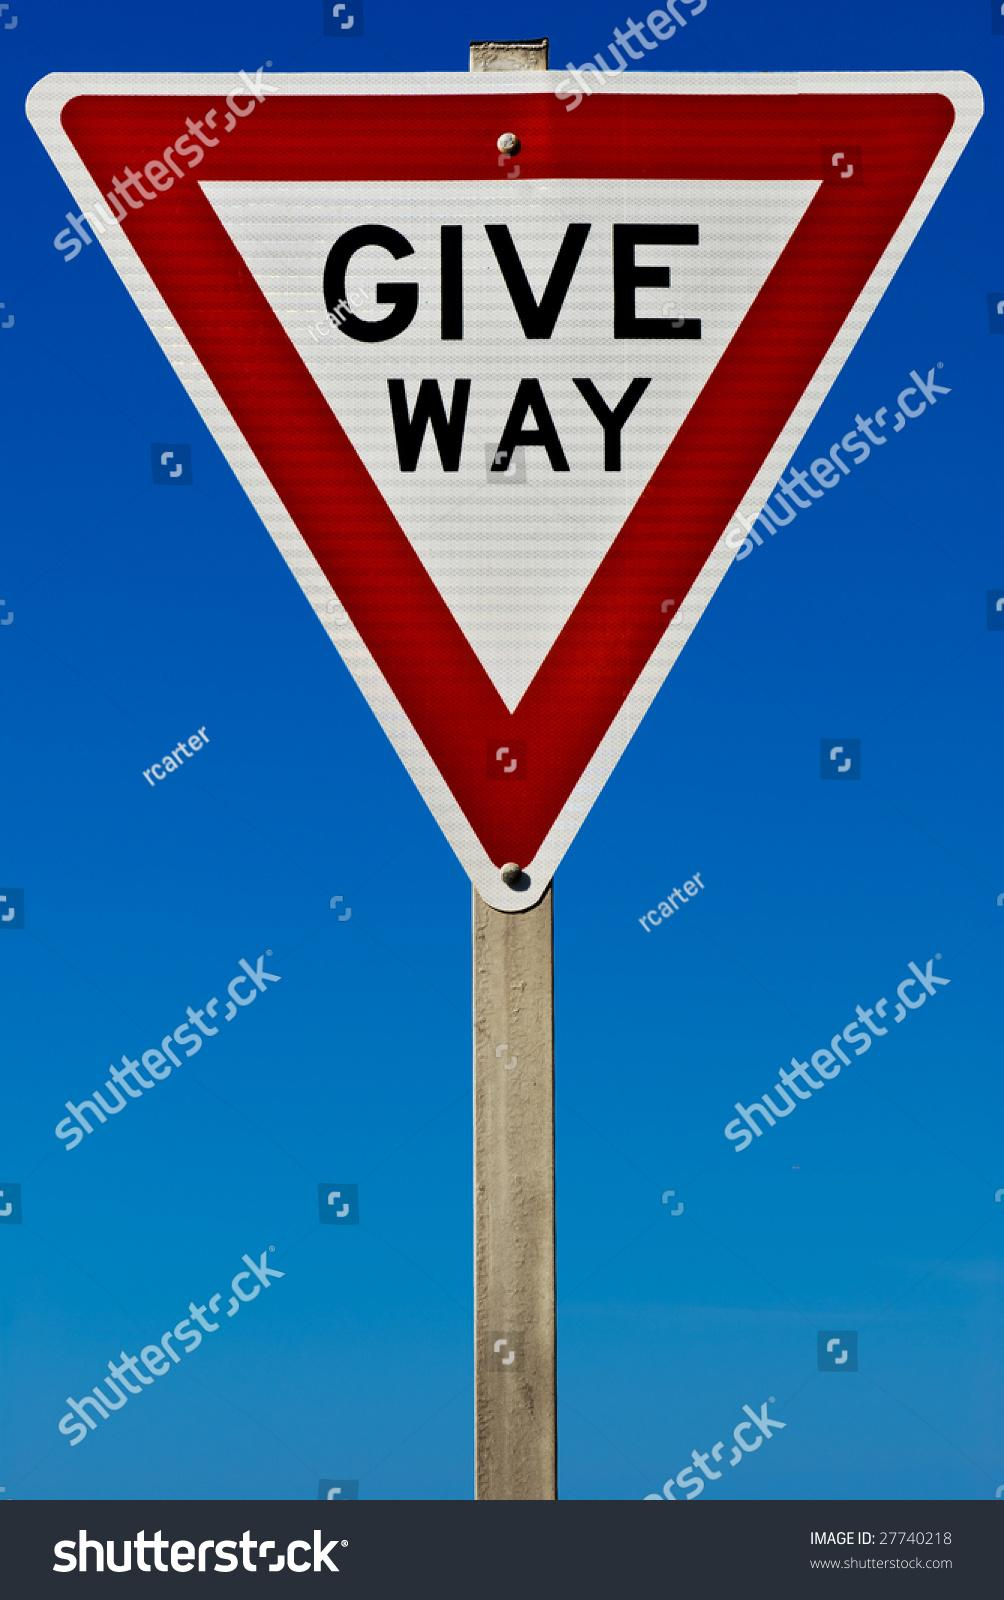Give Way: (0, 31, 1004, 925)
